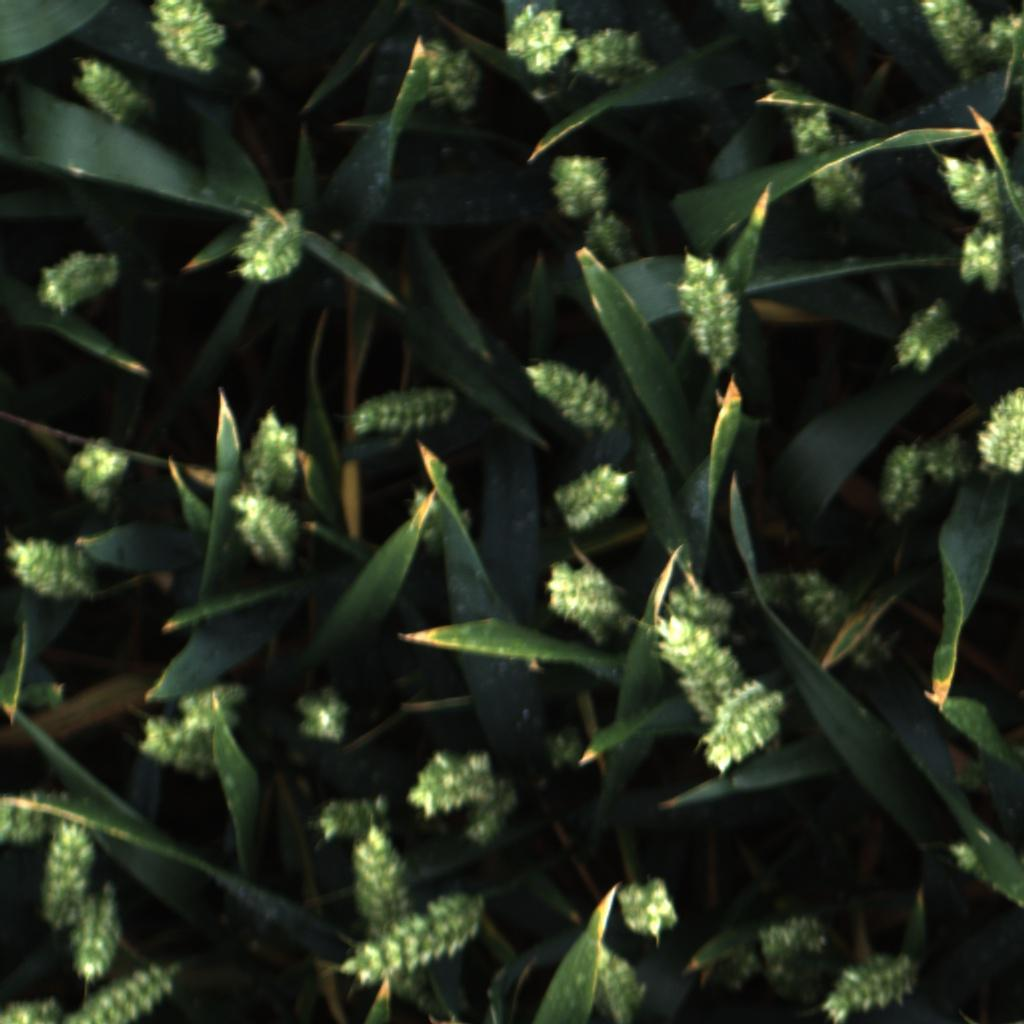0-0: (346, 825, 440, 1011), (330, 886, 484, 992), (656, 603, 749, 724), (793, 567, 896, 670), (695, 677, 794, 780), (673, 243, 744, 380), (58, 954, 185, 1024), (518, 354, 621, 433), (759, 909, 839, 1003), (932, 143, 1024, 224), (816, 951, 919, 1023), (1, 786, 110, 853), (403, 741, 495, 819), (569, 19, 667, 92), (119, 708, 215, 782), (540, 558, 627, 639), (35, 241, 124, 320), (35, 814, 94, 932), (348, 381, 460, 443), (3, 532, 99, 603), (225, 489, 310, 569), (885, 291, 962, 378), (67, 878, 130, 984), (228, 204, 309, 286), (917, 0, 990, 86), (552, 461, 637, 534), (148, 0, 230, 74), (500, 4, 579, 77), (61, 429, 131, 510), (241, 407, 306, 493), (584, 943, 652, 1023), (305, 785, 397, 843), (71, 57, 146, 128), (612, 875, 686, 946), (457, 776, 528, 849), (420, 33, 484, 113), (403, 481, 474, 553), (950, 221, 1017, 296), (545, 150, 616, 218), (871, 436, 927, 521), (176, 678, 254, 737), (663, 582, 733, 647), (978, 381, 1024, 476), (808, 152, 874, 217), (914, 423, 980, 487), (782, 105, 857, 160), (573, 209, 640, 264), (294, 687, 352, 750), (973, 12, 1024, 74), (732, 563, 797, 608), (713, 943, 758, 993), (540, 728, 587, 770), (2, 992, 63, 1024), (735, 0, 793, 25)
